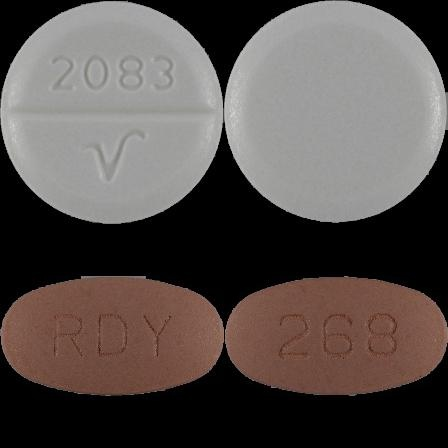43063-079: (0, 0, 224, 224)
